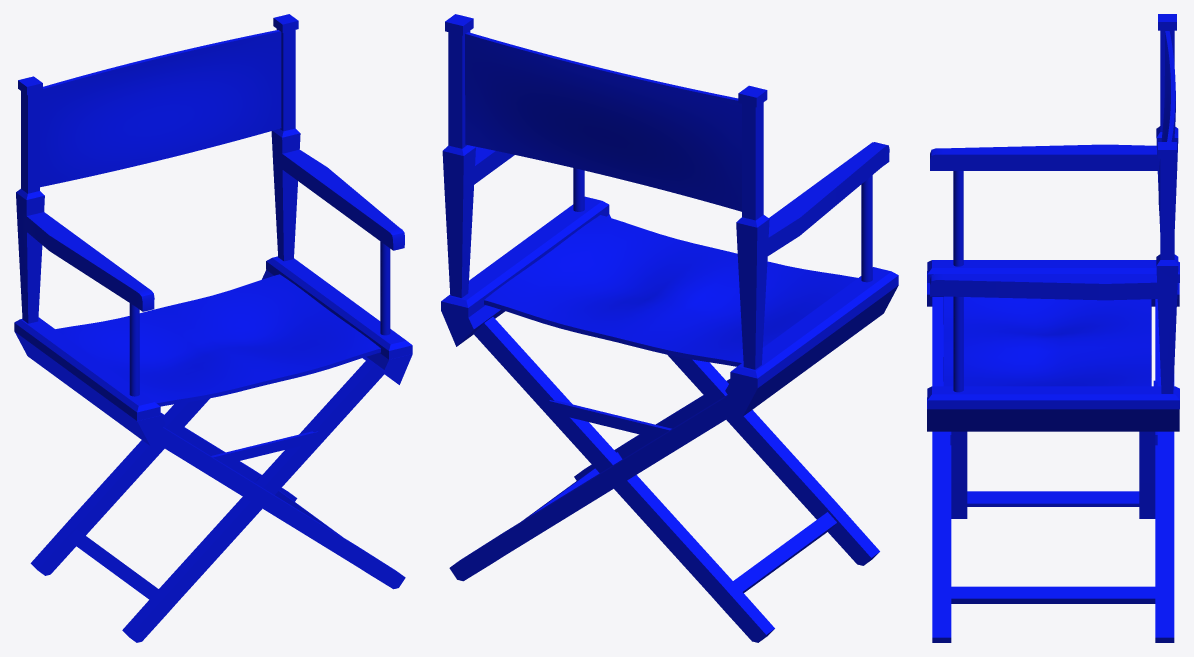
File: Tutorial_Model_Environment_DirectorChair.fbx
The picture shows the model from 3 angles, left to right: view 1: azimuth 30°, elevation 25°; view 2: azimuth 150°, elevation 25°; view 3: azimuth 270°, elevation 25°; orthographic projection. The views are drawn at different scales.
Parts seen in each view (by area): view 1: Director Chair; view 2: Director Chair; view 3: Director Chair.
Part boxes in pixels (x1,y1,x2,y2): Director Chair: (14,14,412,642); Director Chair: (441,14,898,642); Director Chair: (927,14,1179,642).
Size of the model in its own units: 30.5 by 50.74 by 23.36.
